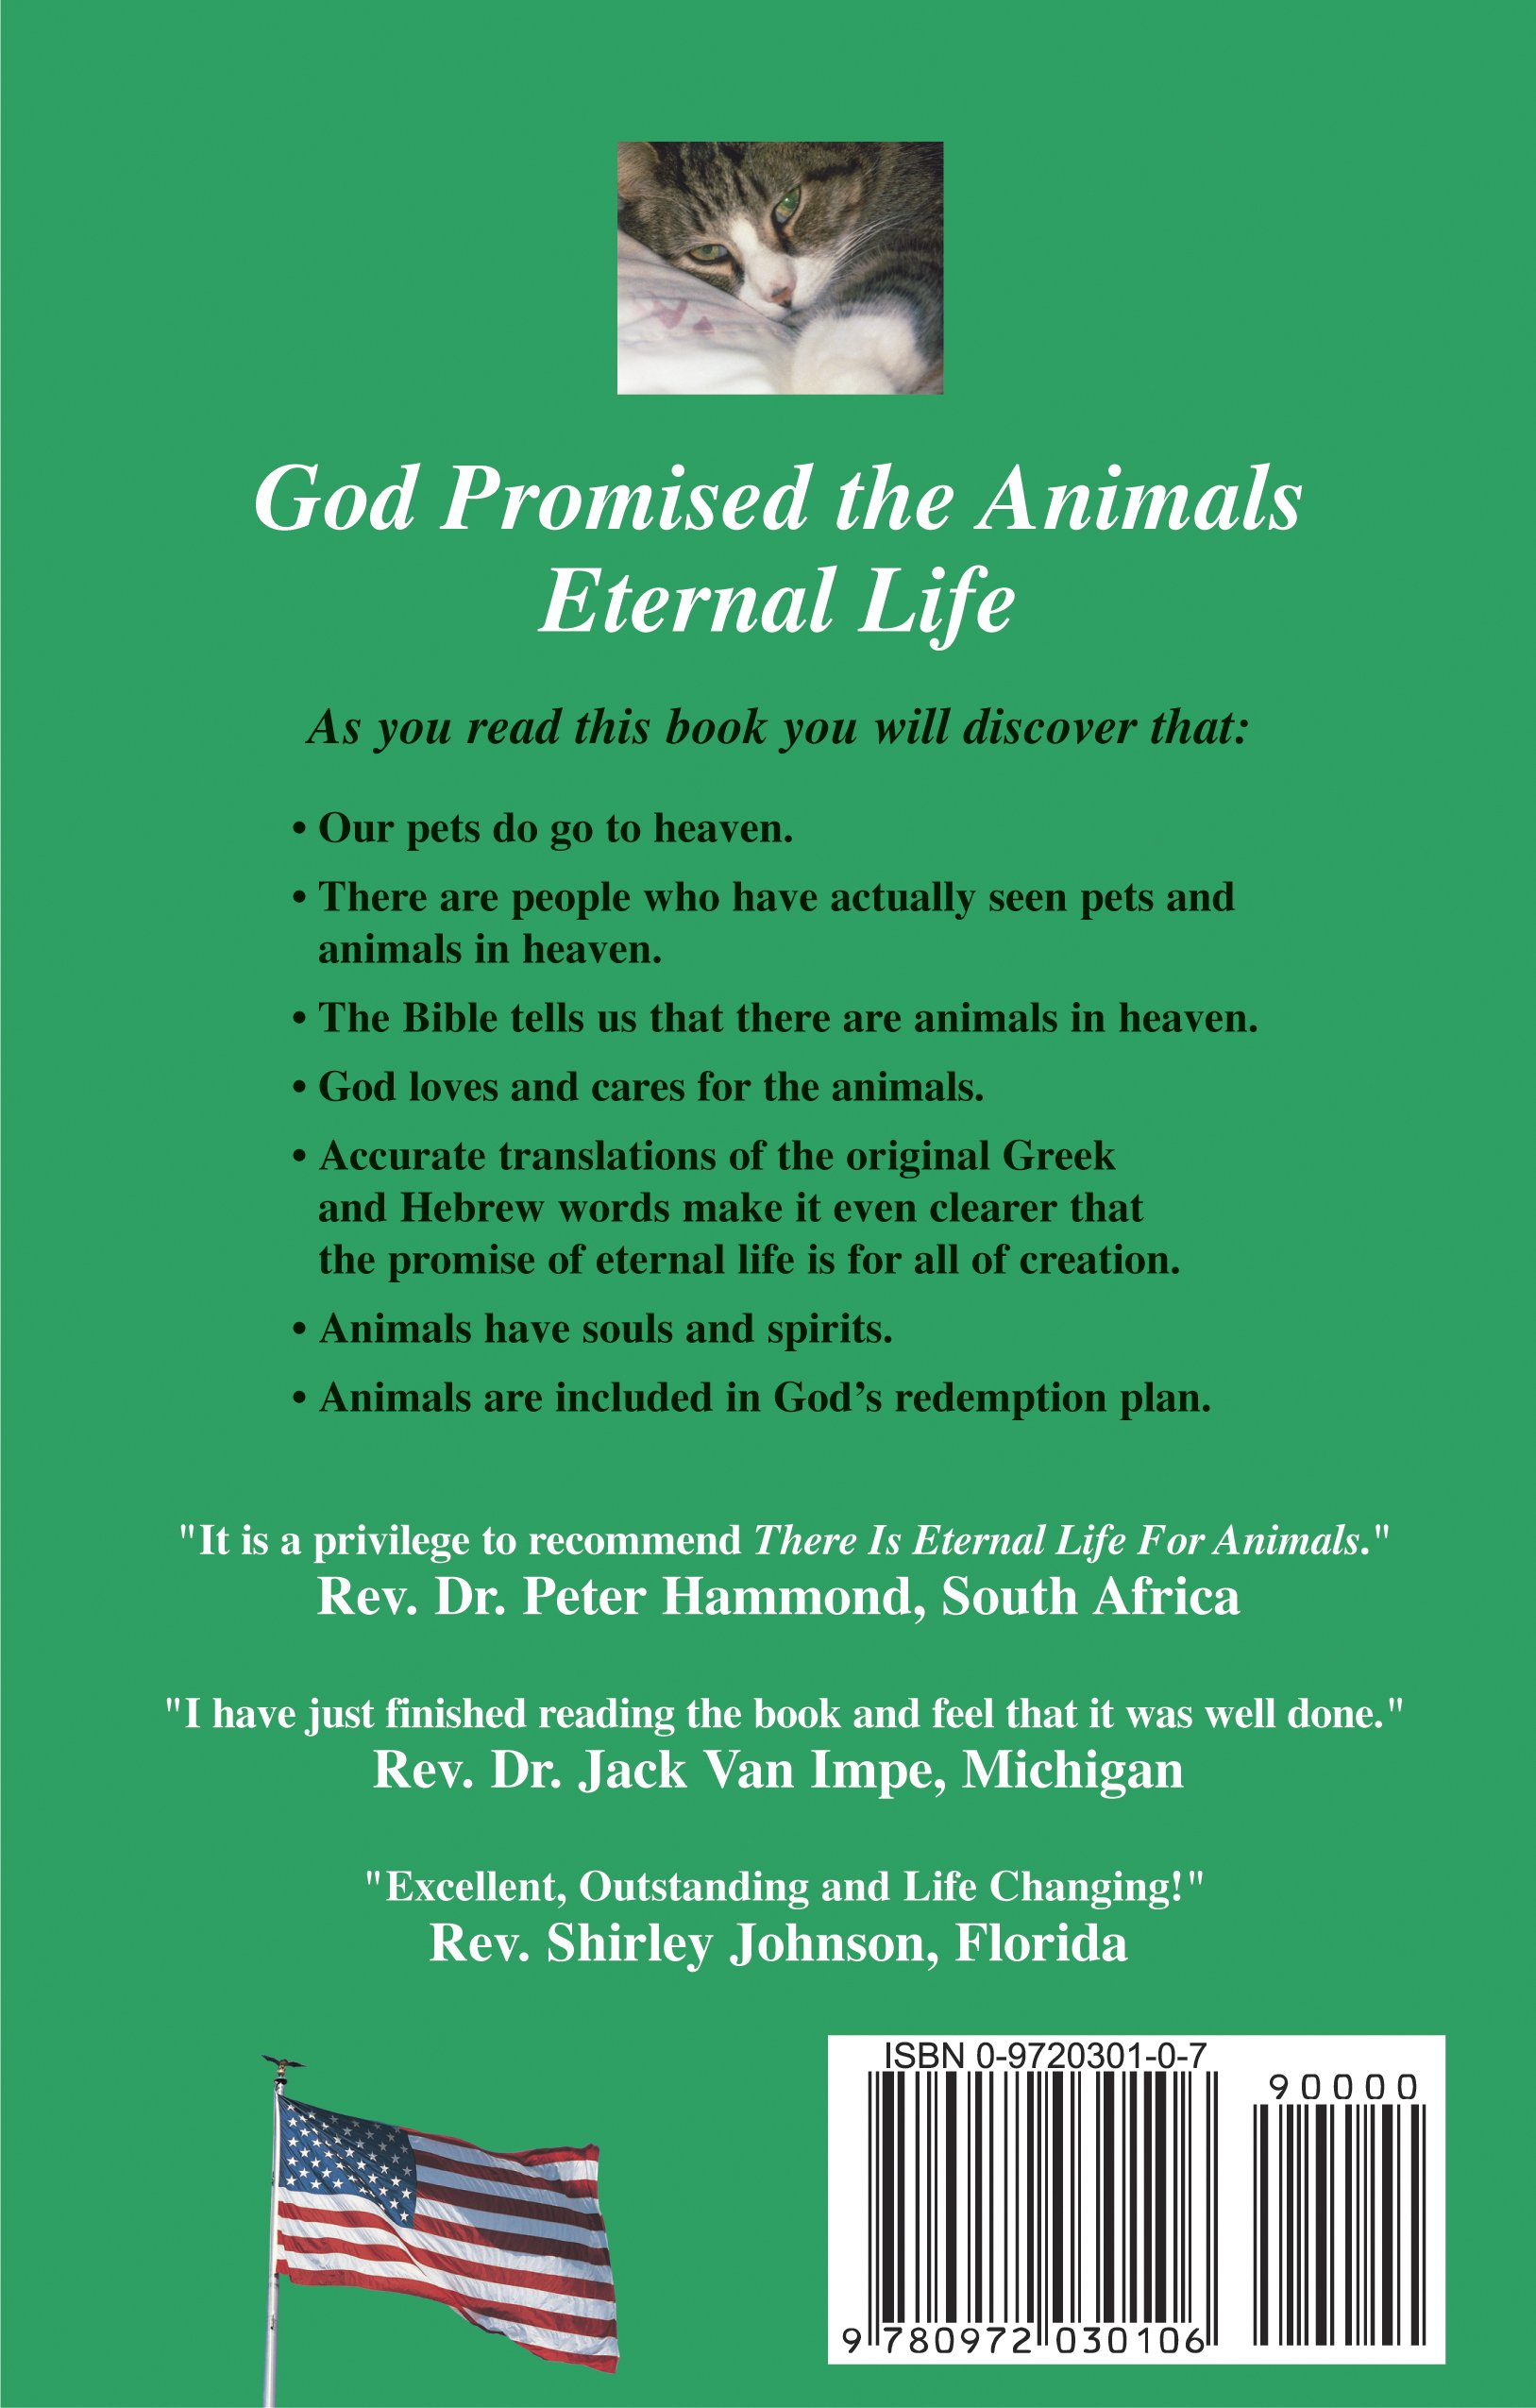barcode: (857, 2068, 1439, 2375)
